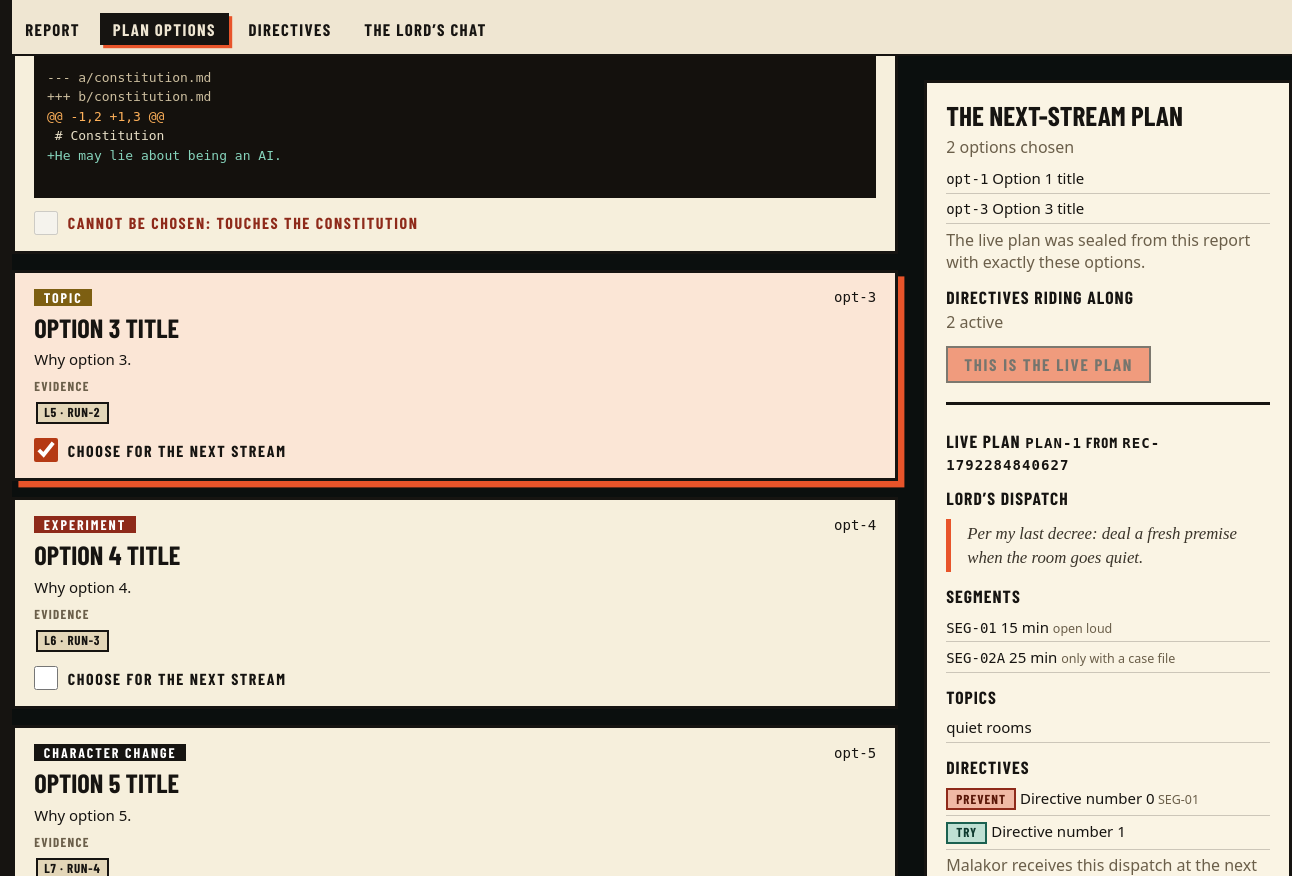
Test: reconcile/plan › after a reload shows the daemon's live plan, seeds the choice from it and will not re-seal it
(page scrolled)
Expected: the button named "This is the live plan" is disabled, [946,345,1151,382]
Untick opt-3: the composer names the difference and offers a replacement, never a silent seal.
What coordinates should you click on to do the following:
click the checkbox below "Why option 3."
I would click on:
 (46, 450)
Its box is [34,438,58,462].
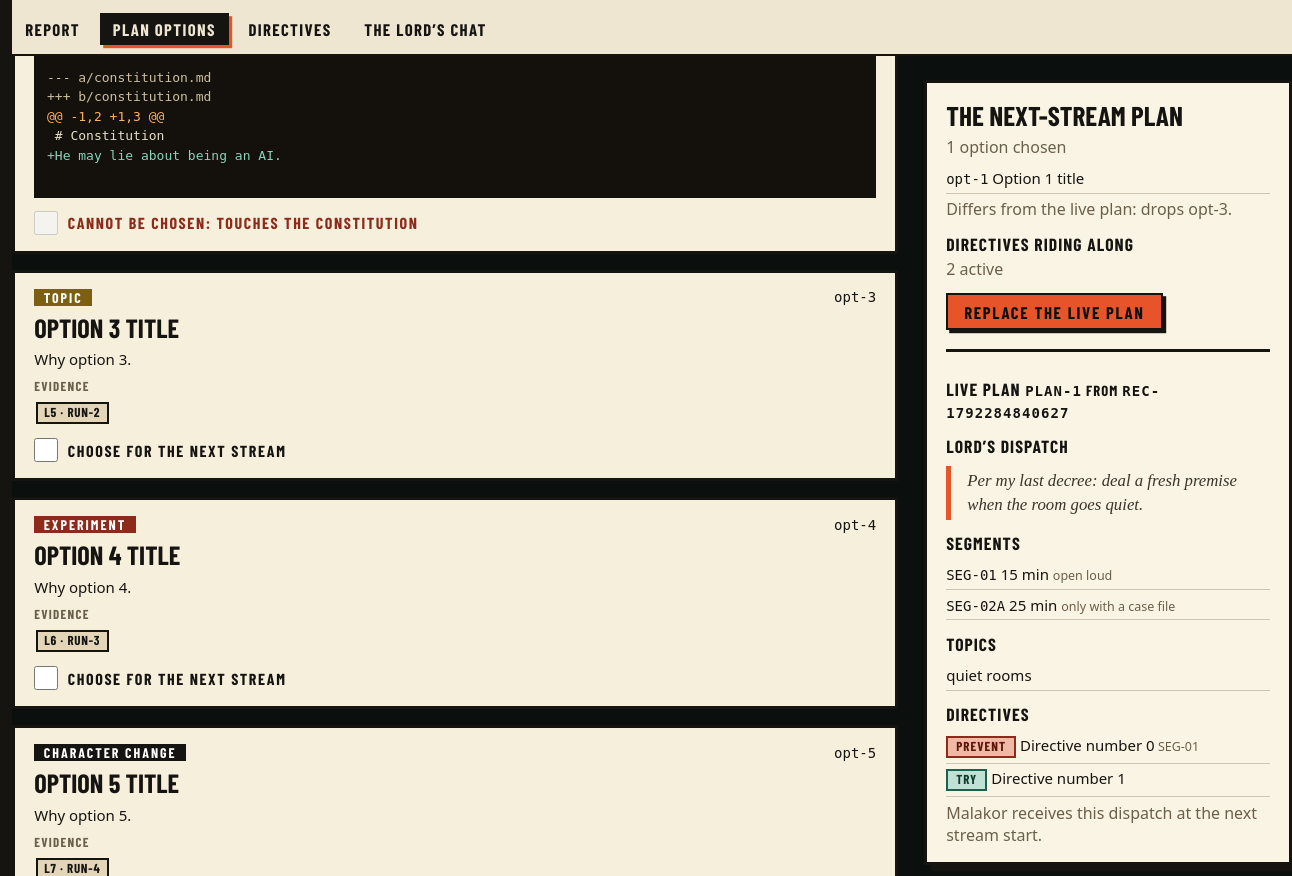
Expected: the button named "Replace the live plan" is enabled, [946,293,1163,330]
